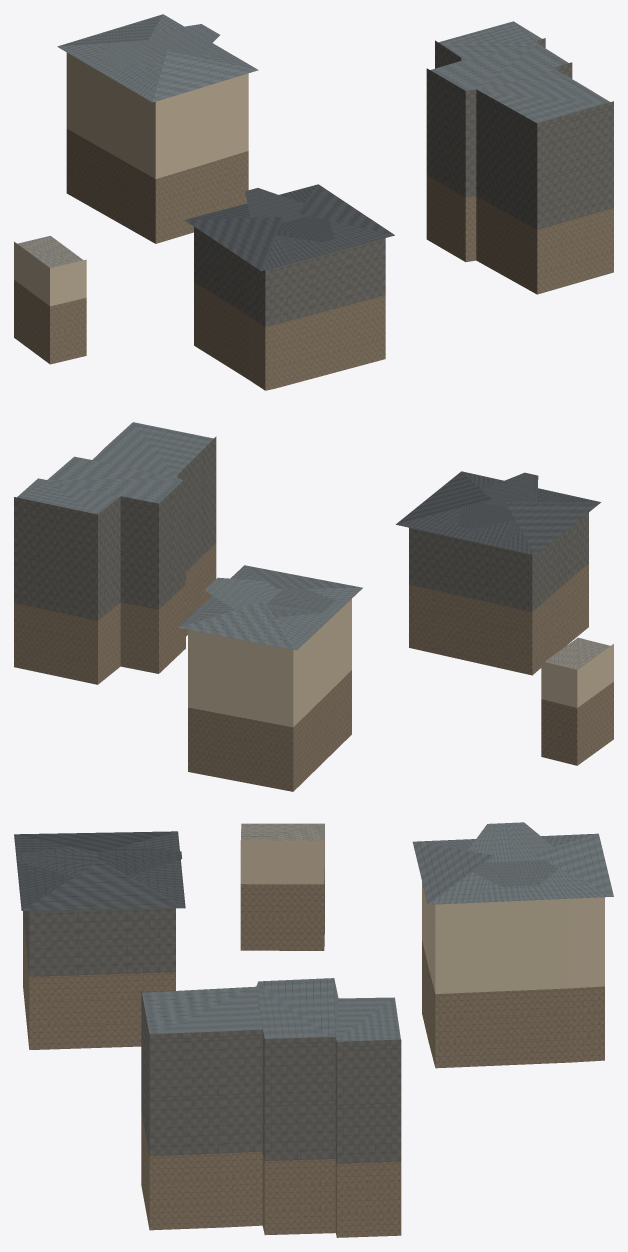
The model's file is bld_c36_-28_441.gltf.
The picture shows the model from 3 angles, top to bottom: view 1: azimuth 30°, elevation 25°; view 2: azimuth 150°, elevation 25°; view 3: azimuth 270°, elevation 25°; orthographic projection. The views are drawn at different scales.
Parts seen in each view (by area): view 1: bld_c36_-28_441; view 2: bld_c36_-28_441; view 3: bld_c36_-28_441.
Boxes of the visible parts, box(x1,y1,x2,y2) form: bld_c36_-28_441: box(14, 14, 613, 390); bld_c36_-28_441: box(14, 422, 613, 791); bld_c36_-28_441: box(14, 822, 613, 1237).
Size of the model in its own units: 44.25 by 14.4 by 37.37.
8 materials, 8 textured.
